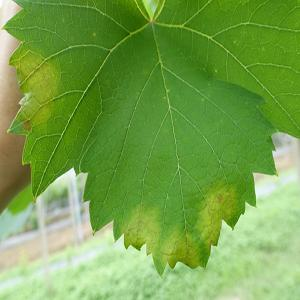Folha: (1, 0, 299, 278)
Fungo: (16, 49, 61, 127), (195, 178, 236, 248), (158, 227, 202, 275), (123, 202, 161, 254), (22, 119, 32, 132), (218, 194, 222, 202), (92, 31, 96, 36)
